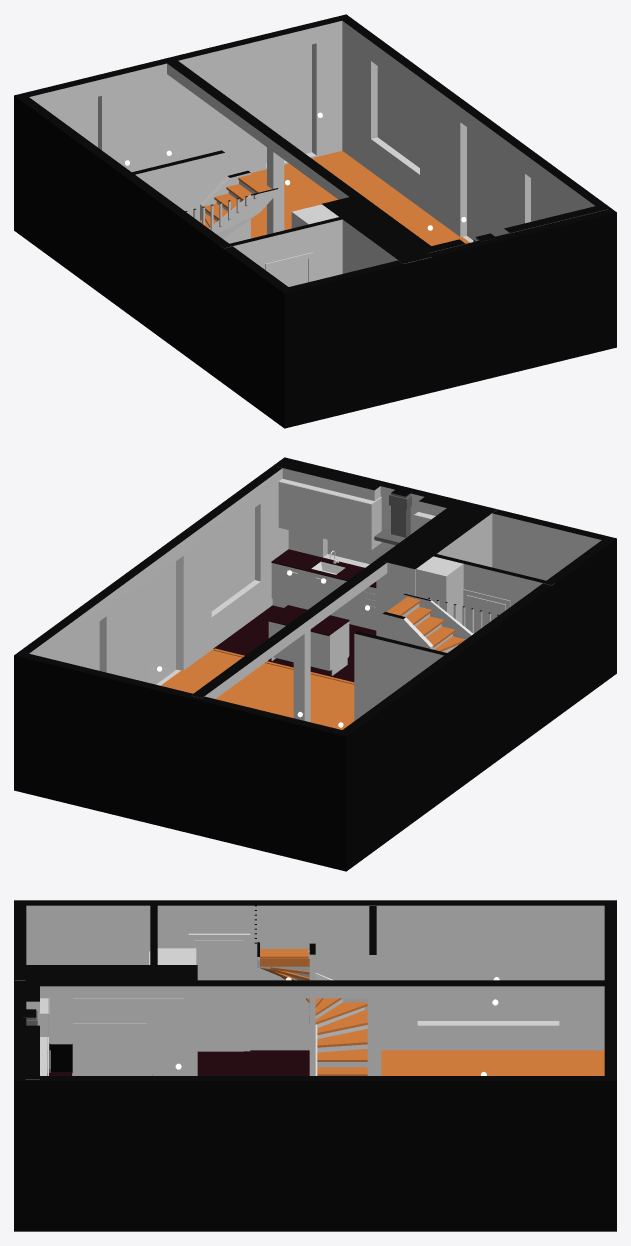
File: vallingby3_s_split_1.glb
3 views of the same model, one above another, from view 1: azimuth 30°, elevation 25°; view 2: azimuth 150°, elevation 25°; view 3: azimuth 270°, elevation 25° (orthographic). The views are drawn at different scales.
Visible parts, largest first — view 1: Wall.002, Wooden floor, Cabinet1.007; view 2: Wall.002, Cabinet3.005, Wooden floor, Kitchen tiles, Cabinet1.007, Countertop3.001, Cappa; view 3: Wall.002, Cabinet3.005, Wooden floor, Kitchen tiles, Cabinet1.007.
Part boxes in pixels (x1,y1,x2,y2): Wall.002: (14, 14, 616, 428); Wooden floor: (200, 151, 469, 245); Cabinet1.007: (291, 204, 338, 228); Wall.002: (14, 457, 616, 871); Cabinet3.005: (268, 478, 435, 670); Wooden floor: (161, 597, 465, 729); Kitchen tiles: (213, 605, 376, 682); Cabinet1.007: (416, 556, 463, 624); Countertop3.001: (267, 549, 376, 635); Cappa: (374, 488, 411, 545); Wall.002: (14, 900, 616, 1231); Cabinet3.005: (37, 998, 185, 1075); Wooden floor: (260, 949, 604, 1075); Kitchen tiles: (197, 1050, 309, 1075); Cabinet1.007: (157, 948, 196, 964).
Bounding box in the file's own units: 6.95 × 2.81 × 9.8.
